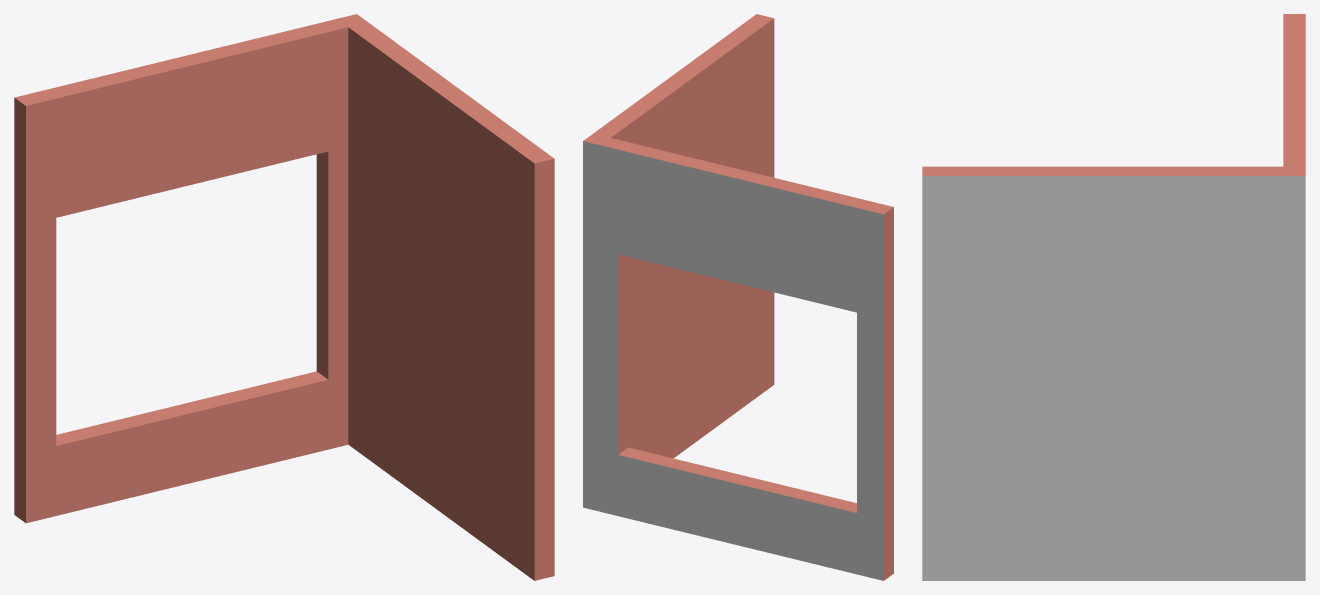
File: Wall1_C6_13.fbx
The picture shows the model from 3 angles, left to right: view 1: azimuth 30°, elevation 25°; view 2: azimuth 150°, elevation 25°; view 3: azimuth 270°, elevation 25°; orthographic projection. The views are drawn at different scales.
Visible parts, largest first — view 1: Wall1_C6_13; view 2: Wall1_C6_13; view 3: Wall1_C6_13.
Part boxes in pixels (left/top/right/bottom): Wall1_C6_13: left=14, top=14, right=554, bottom=580; Wall1_C6_13: left=583, top=14, right=893, bottom=580; Wall1_C6_13: left=922, top=14, right=1305, bottom=580.
Bounding box in the file's own units: 258 × 300 × 258.
